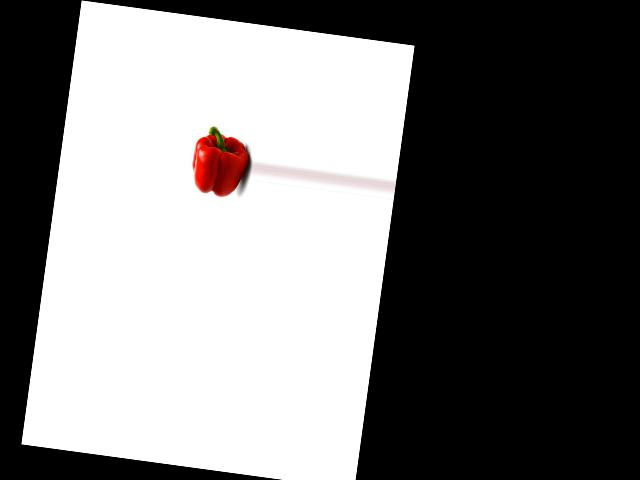bell_pepper: (188, 120, 251, 205)
